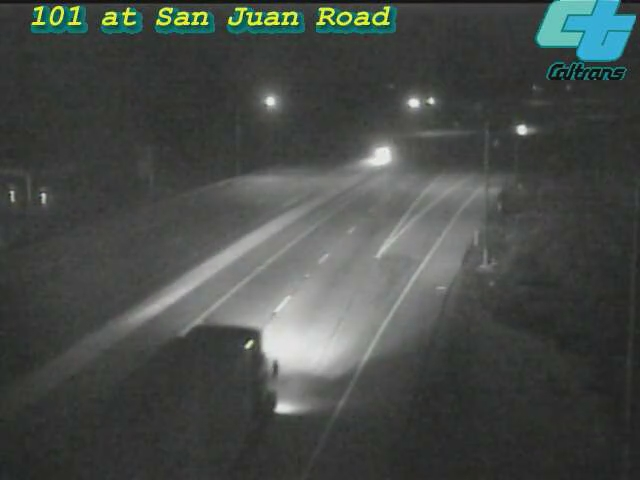vehicle: (323, 100, 433, 210), (134, 346, 244, 456), (498, 103, 548, 153)
